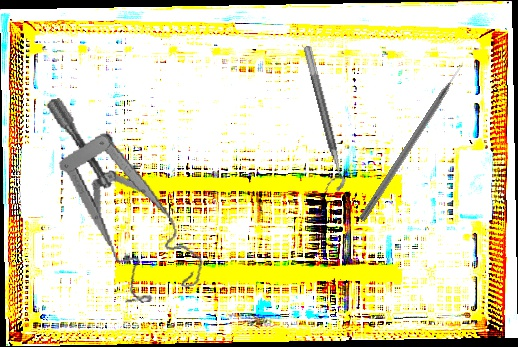Fixation Ring: (290, 45, 349, 195)
Hook Surgical: (358, 62, 468, 223)
Speculum: (43, 78, 209, 314)
